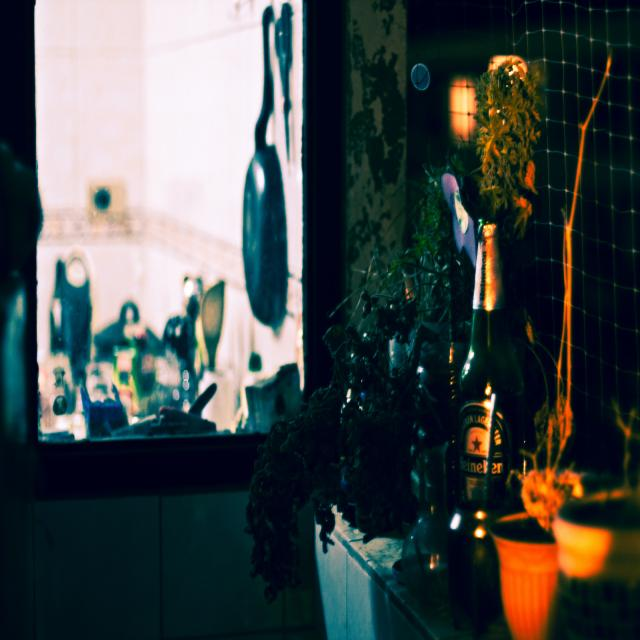Bottle: (446, 214, 533, 510)
